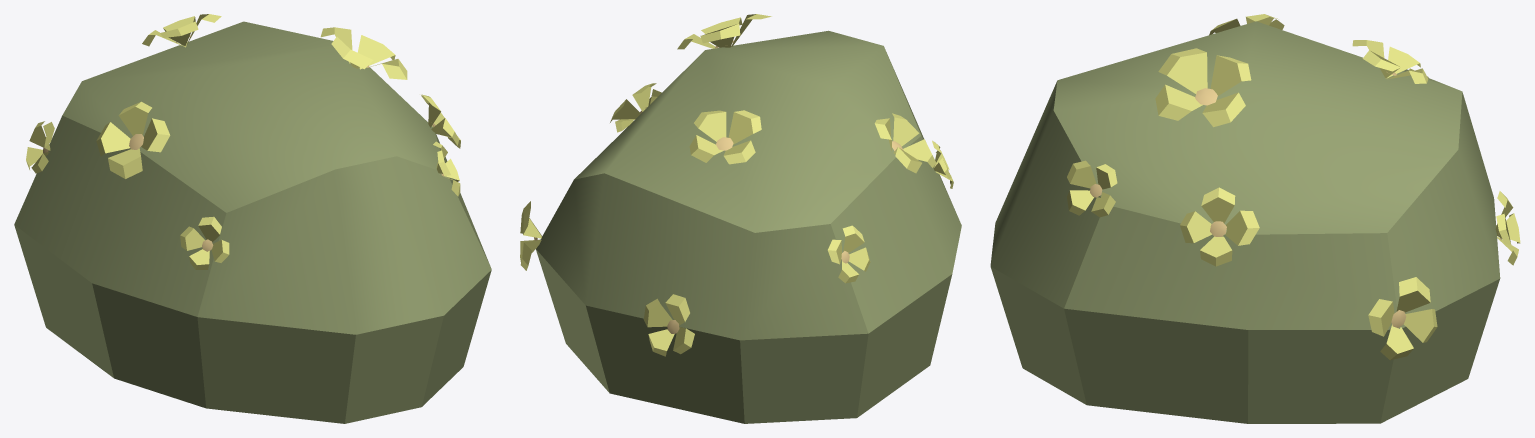
File: largeYellowFlower.fbx
The picture shows the model from 3 angles, left to right: view 1: azimuth 30°, elevation 25°; view 2: azimuth 150°, elevation 25°; view 3: azimuth 270°, elevation 25°; orthographic projection. The views are drawn at different scales.
Parts seen in each view (by area): view 1: largeBush02, flowerPetals01 (×7); view 2: largeBush02, flowerPetals01 (×7); view 3: largeBush02, flowerPetals01 (×7).
Boxes of the visible parts, x1=… form: largeBush02: x1=14, y1=21, x2=491, y2=423; flowerPetals01 (×7): x1=26, y1=14, x2=460, y2=269; largeBush02: x1=536, y1=30, x2=961, y2=423; flowerPetals01 (×7): x1=520, y1=14, x2=936, y2=356; largeBush02: x1=990, y1=21, x2=1500, y2=423; flowerPetals01 (×7): x1=1067, y1=14, x2=1520, y2=360.
Size of the model in its own units: 1.05 by 0.798 by 1.21.
